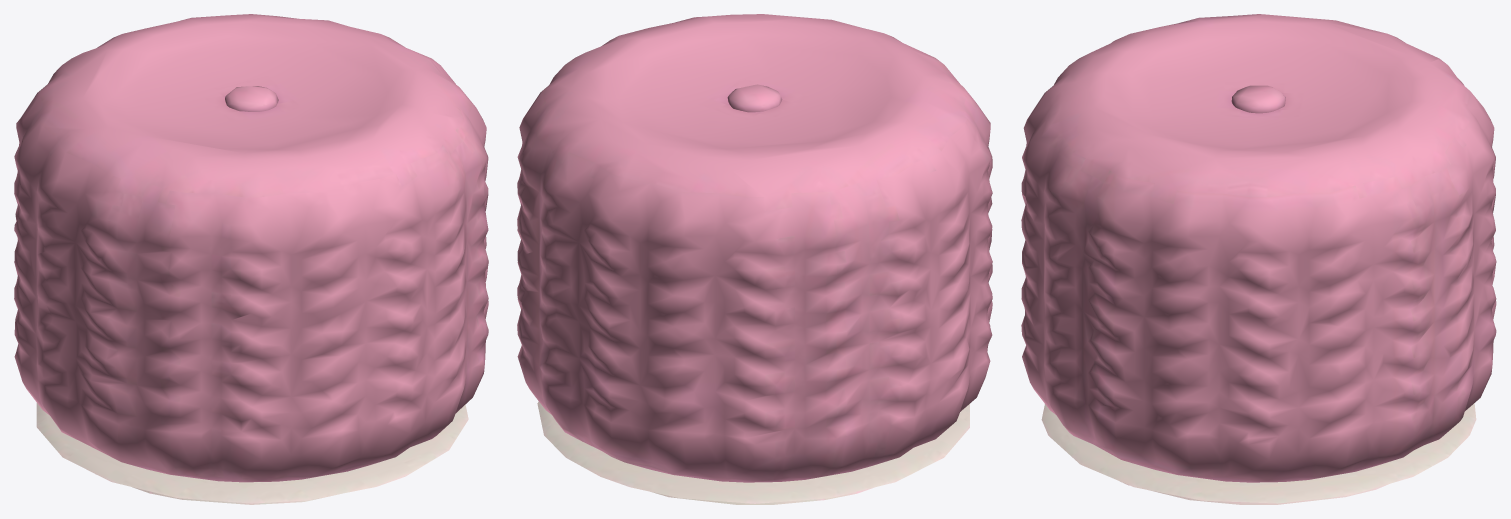
File: pouf.glb
The picture shows the model from 3 angles, left to right: view 1: azimuth 30°, elevation 25°; view 2: azimuth 150°, elevation 25°; view 3: azimuth 270°, elevation 25°; orthographic projection.
Visible parts, largest first — view 1: pouf_body; view 2: pouf_body; view 3: pouf_body.
Boxes of the visible parts, x1,y1,x2,y2 form: pouf_body: (14,14,488,504); pouf_body: (517,14,992,504); pouf_body: (1021,14,1496,504).
Size of the model in its own units: 0.525 by 0.4003 by 0.5179.
Materials: 1 (1 with a texture image).
